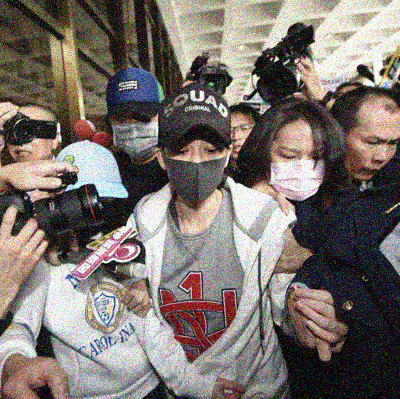with_mask: (162, 134, 227, 210), (267, 143, 326, 200), (110, 112, 161, 161)
without_mask: (343, 129, 400, 183), (7, 116, 55, 163), (229, 120, 255, 160)
